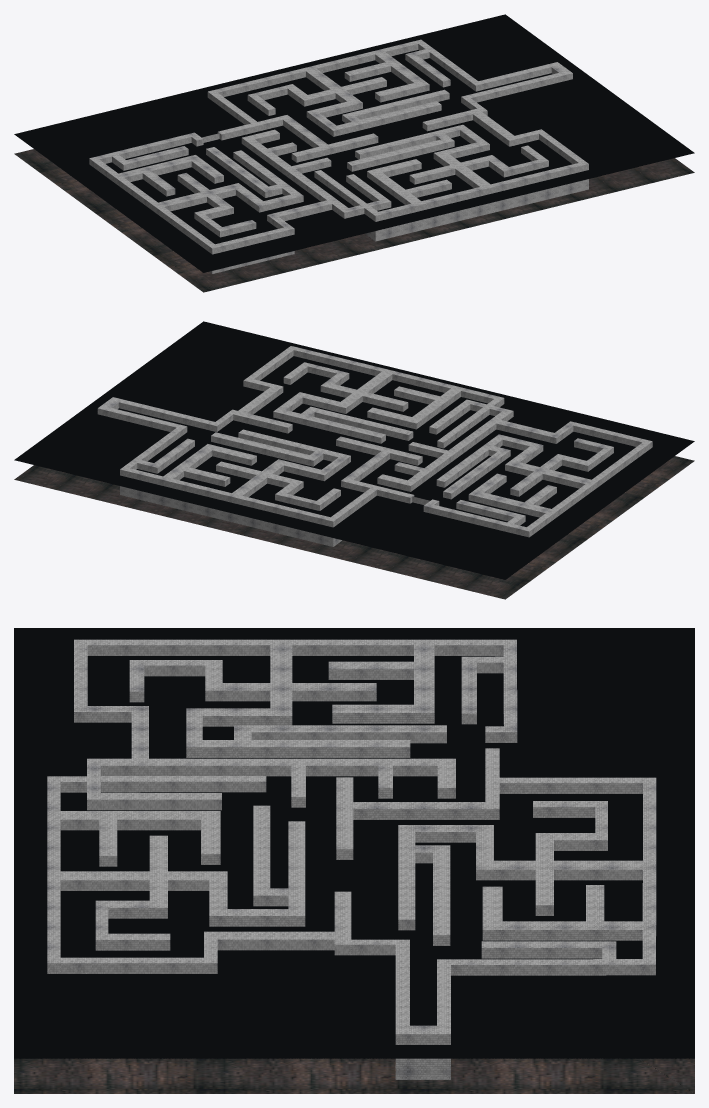
File: Maze.fbx
3 views of the same model, one above another, from view 1: azimuth 30°, elevation 25°; view 2: azimuth 150°, elevation 25°; view 3: azimuth 270°, elevation 25° (orthographic). The views are drawn at different scales.
Parts seen in each view (by area): view 1: Plane, Cube; view 2: Plane, Cube; view 3: Plane, Cube.
Boxes of the visible parts, left/top/right/bottom form: Plane: left=14, top=14, right=694, bottom=292; Cube: left=89, top=39, right=588, bottom=273; Plane: left=14, top=321, right=694, bottom=599; Cube: left=97, top=346, right=652, bottom=546; Plane: left=14, top=628, right=694, bottom=1093; Cube: left=47, top=639, right=656, bottom=1079.
Bounding box in the file's own units: 4582 × 275 × 3062.
